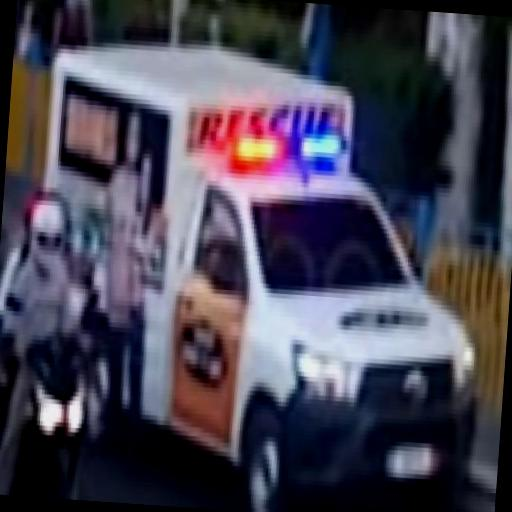Police car: (20, 37, 495, 512)
